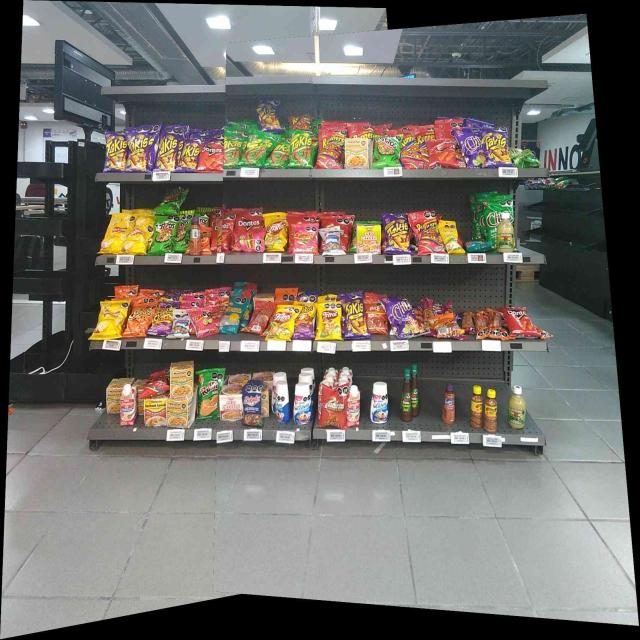bitzEnchilado90: (367, 297, 386, 333)
bitzEnchilado95: (476, 311, 503, 338)
bitzHabanero: (423, 298, 433, 336), (462, 311, 474, 333)
bokadosCacahuates: (244, 381, 262, 426)
botaneraChilito: (484, 389, 498, 432), (471, 385, 483, 428)
cheetosFlaminHot: (296, 296, 316, 338), (154, 302, 171, 334)
cheetosOriginal: (129, 305, 149, 334)
chipsFuego: (388, 298, 419, 334), (458, 128, 482, 166)
chipsJalapeno: (485, 198, 496, 240)
chipsPapatinas: (511, 148, 536, 166)
churrumais: (293, 225, 318, 253), (234, 232, 264, 252), (192, 310, 214, 334)
delPrimoSalsa: (508, 385, 526, 429), (497, 212, 514, 252)
doritosNacho: (429, 139, 455, 167), (506, 308, 532, 334), (200, 145, 223, 172), (236, 210, 263, 230)
fritosLimon: (318, 303, 341, 340), (273, 308, 294, 340), (266, 219, 286, 251)
leoCacahuates: (323, 228, 342, 254), (172, 311, 188, 337)
maruchanPollo: (167, 398, 195, 426), (344, 138, 370, 168), (171, 362, 193, 396), (106, 378, 120, 412)
maruchanRes: (144, 399, 166, 426)
nestleCarnation: (121, 389, 137, 425), (348, 388, 360, 427)
nestleLechera: (370, 382, 389, 423), (295, 382, 311, 424), (276, 381, 290, 423)
nissinCamaron: (357, 224, 381, 254)
nissinRes: (220, 385, 242, 420)
productoAtras: (251, 302, 267, 333), (435, 316, 459, 335)
rancheritos: (322, 385, 346, 427)
rufflesQueso: (198, 370, 219, 420)
runners: (414, 212, 441, 252), (318, 130, 342, 168), (402, 130, 421, 168), (147, 369, 167, 395), (290, 115, 312, 130)
sabritasOriginal: (105, 214, 128, 254), (100, 301, 122, 337), (130, 221, 150, 253)
salsaBufalo: (400, 367, 411, 421), (412, 363, 419, 417)
semillasCalabaza: (443, 221, 459, 252)
semillasGirasol: (222, 293, 243, 334)
tajinDulce: (442, 384, 455, 424), (190, 218, 202, 256)
takisFuego: (384, 214, 410, 254), (484, 128, 509, 168), (127, 130, 149, 172), (344, 294, 365, 337), (157, 128, 176, 172), (105, 133, 126, 172), (180, 136, 198, 172), (258, 99, 280, 128)
takisOriginal: (289, 131, 311, 168), (246, 130, 267, 167), (223, 128, 240, 166), (269, 138, 288, 168)
tostitos: (153, 216, 176, 254), (374, 136, 400, 167), (158, 187, 186, 215)
